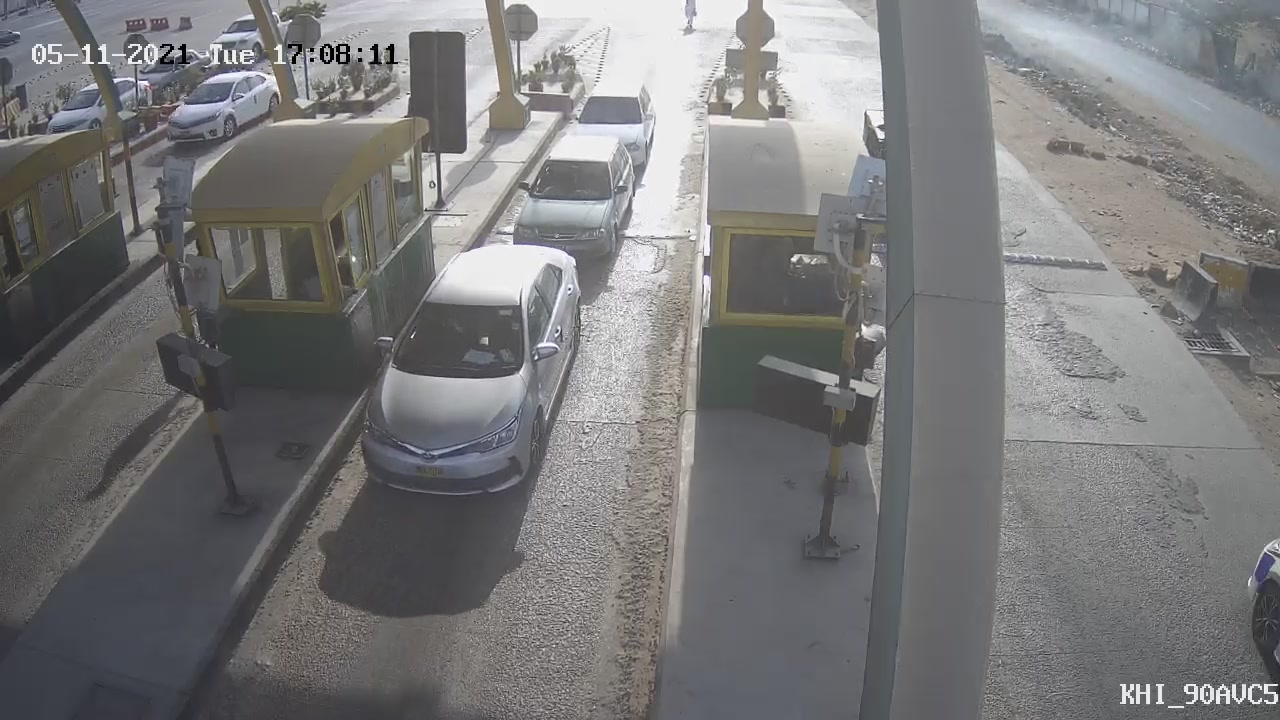F1: (335, 222, 607, 518), (489, 118, 652, 279)
